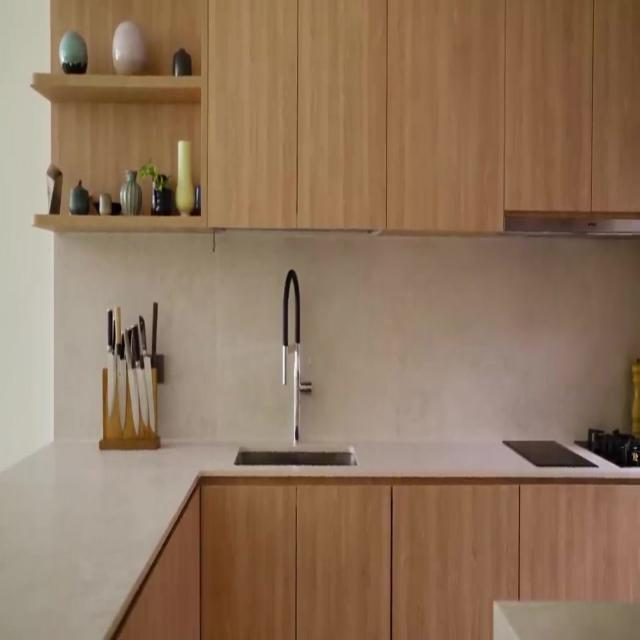obstacle: (206, 470, 640, 640), (29, 0, 208, 234), (504, 0, 640, 230), (492, 598, 640, 639)
